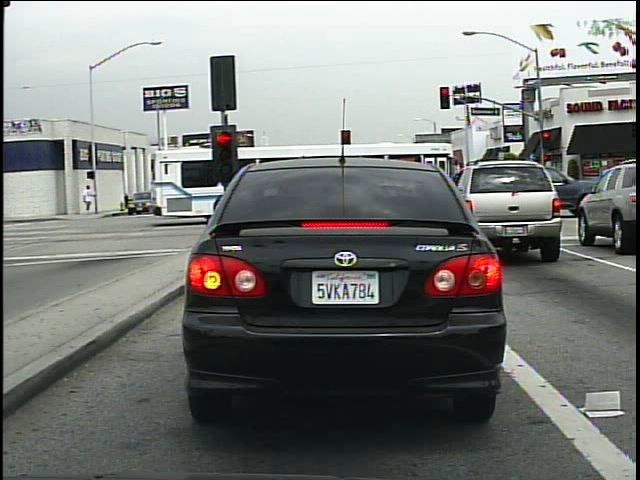person: (81, 184, 96, 215)
